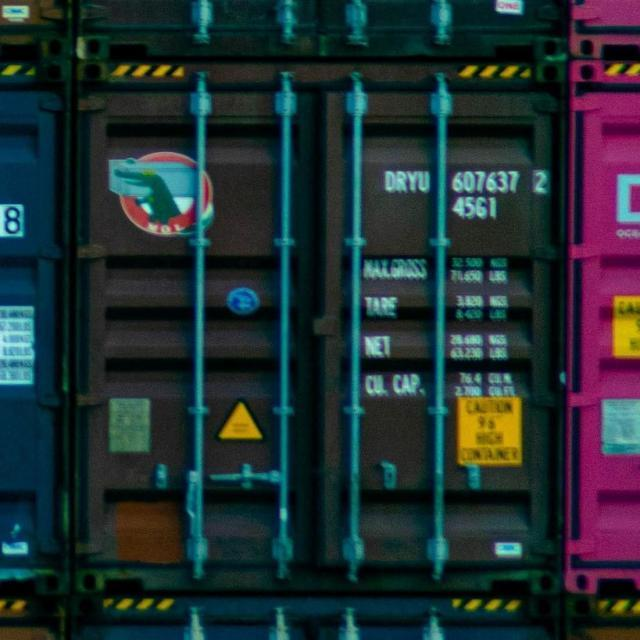ISO: (454, 197, 499, 222)
container_number: (386, 168, 549, 198)
